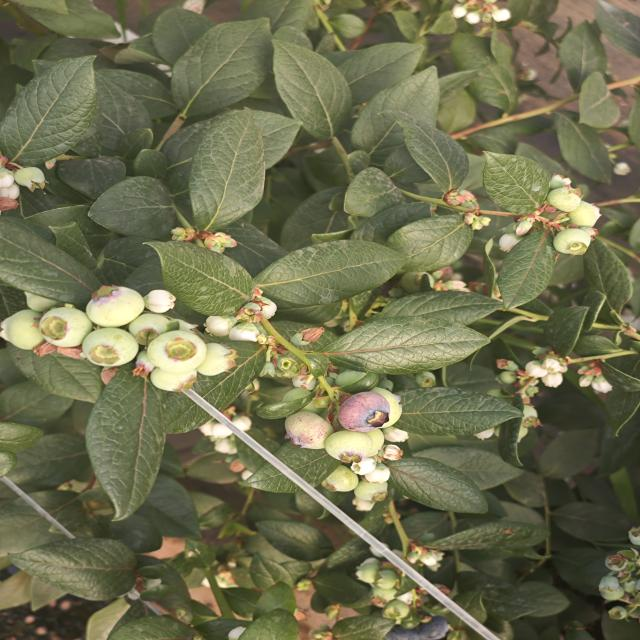ripe: (382, 611, 458, 640)
